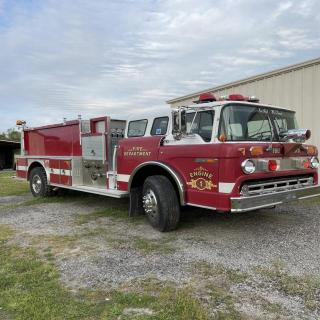Fire_truck: (11, 93, 320, 232)
